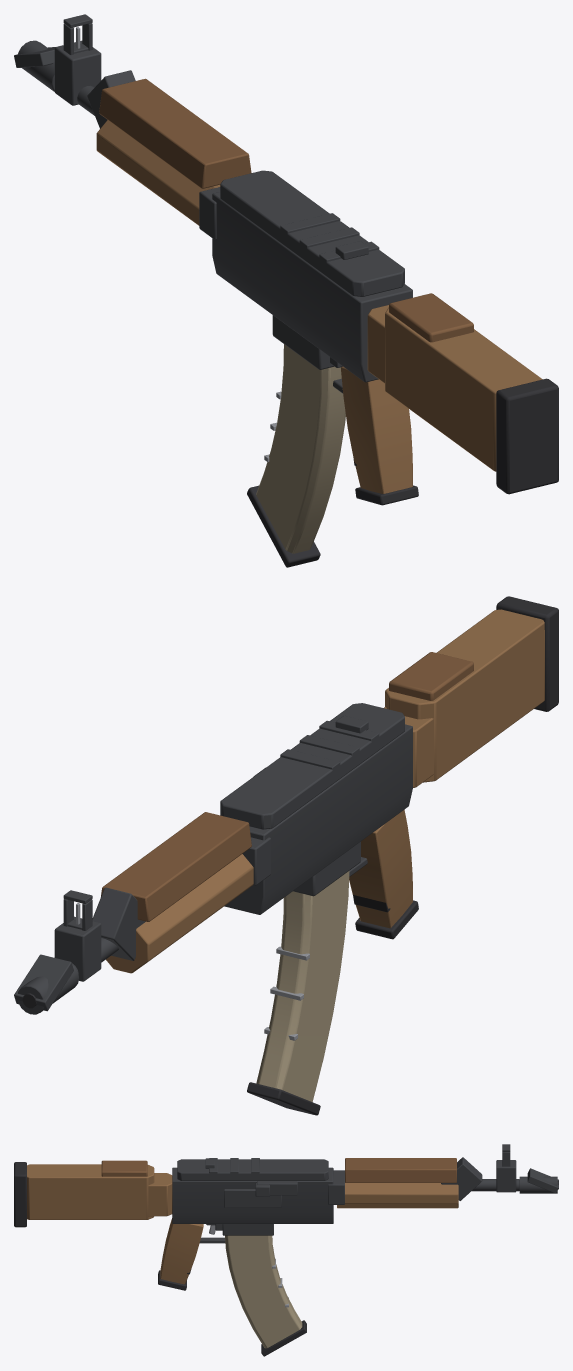
The model's file is fusil_762.glb.
The picture shows the model from 3 angles, top to bottom: view 1: azimuth 30°, elevation 25°; view 2: azimuth 150°, elevation 25°; view 3: azimuth 270°, elevation 25°; orthographic projection. The views are drawn at different scales.
Visible parts, largest first — view 1: fusil_762, Cargador; view 2: fusil_762, Cargador; view 3: fusil_762, Cargador.
Boxes of the visible parts, x1,y1,x2,y2 form: fusil_762: (14,14,558,505); Cargador: (247,344,345,567); fusil_762: (14,596,558,1014); Cargador: (247,871,349,1115); fusil_762: (14,1144,558,1290); Cargador: (225,1235,306,1356).
Bounding box in the file's own units: 0.069 × 0.3446 × 0.828.
